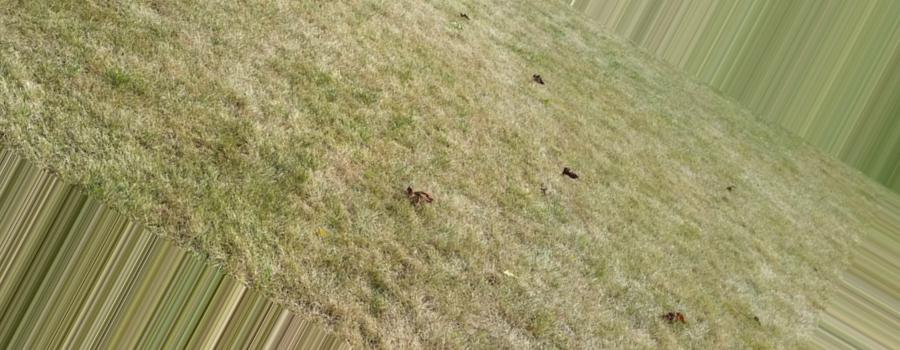patch: (185, 31, 669, 222), (374, 194, 760, 333), (632, 121, 759, 203)
